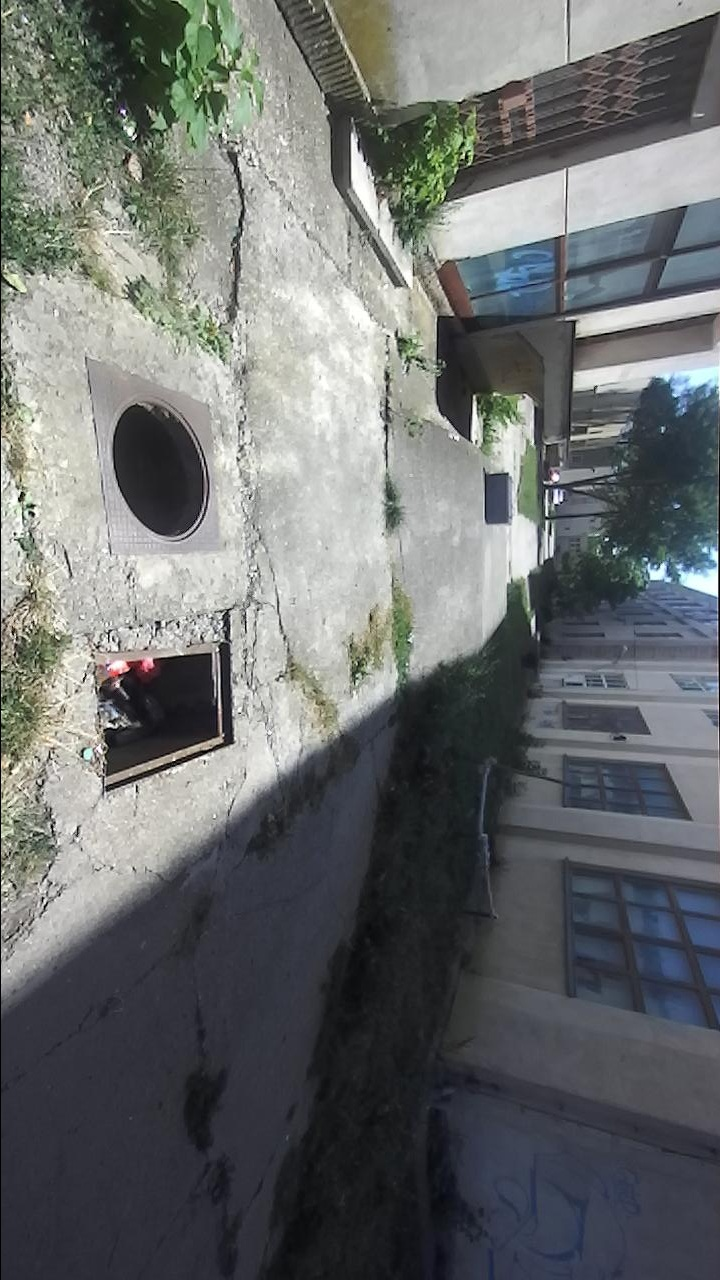drain: (94, 611, 232, 800), (109, 398, 215, 542)
